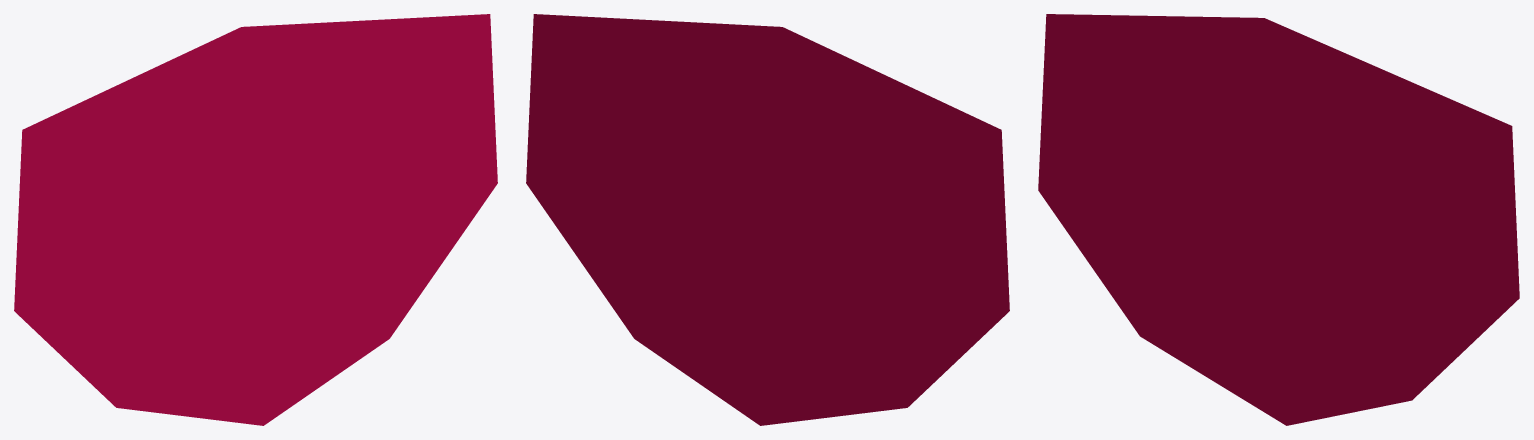
3 views of the same model, side by side, from view 1: azimuth 30°, elevation 25°; view 2: azimuth 150°, elevation 25°; view 3: azimuth 330°, elevation 25° (orthographic).
Visible parts, largest first — view 1: obj1; view 2: obj1; view 3: obj1.
Boxes of the visible parts, x1,y1,x2,y2 form: obj1: (14,14,497,425); obj1: (526,14,1009,425); obj1: (1038,14,1519,425).
Bounding box in the file's own units: 195 × 156 × 0.
